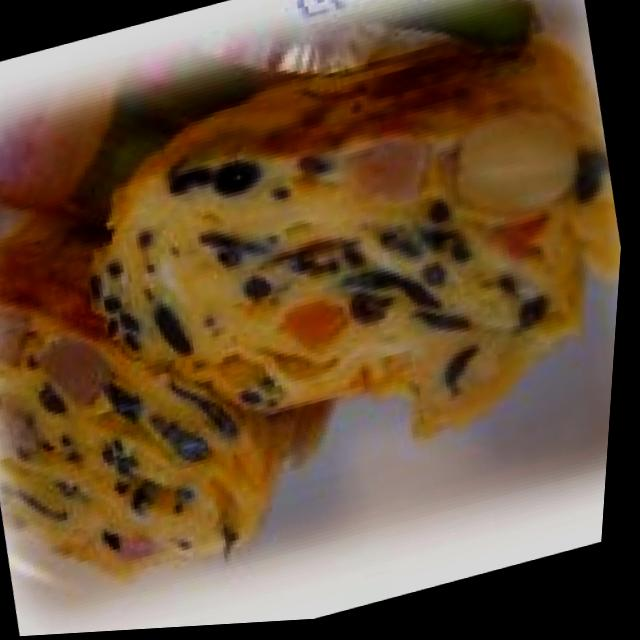鸡蛋料理: (0, 5, 638, 617)
